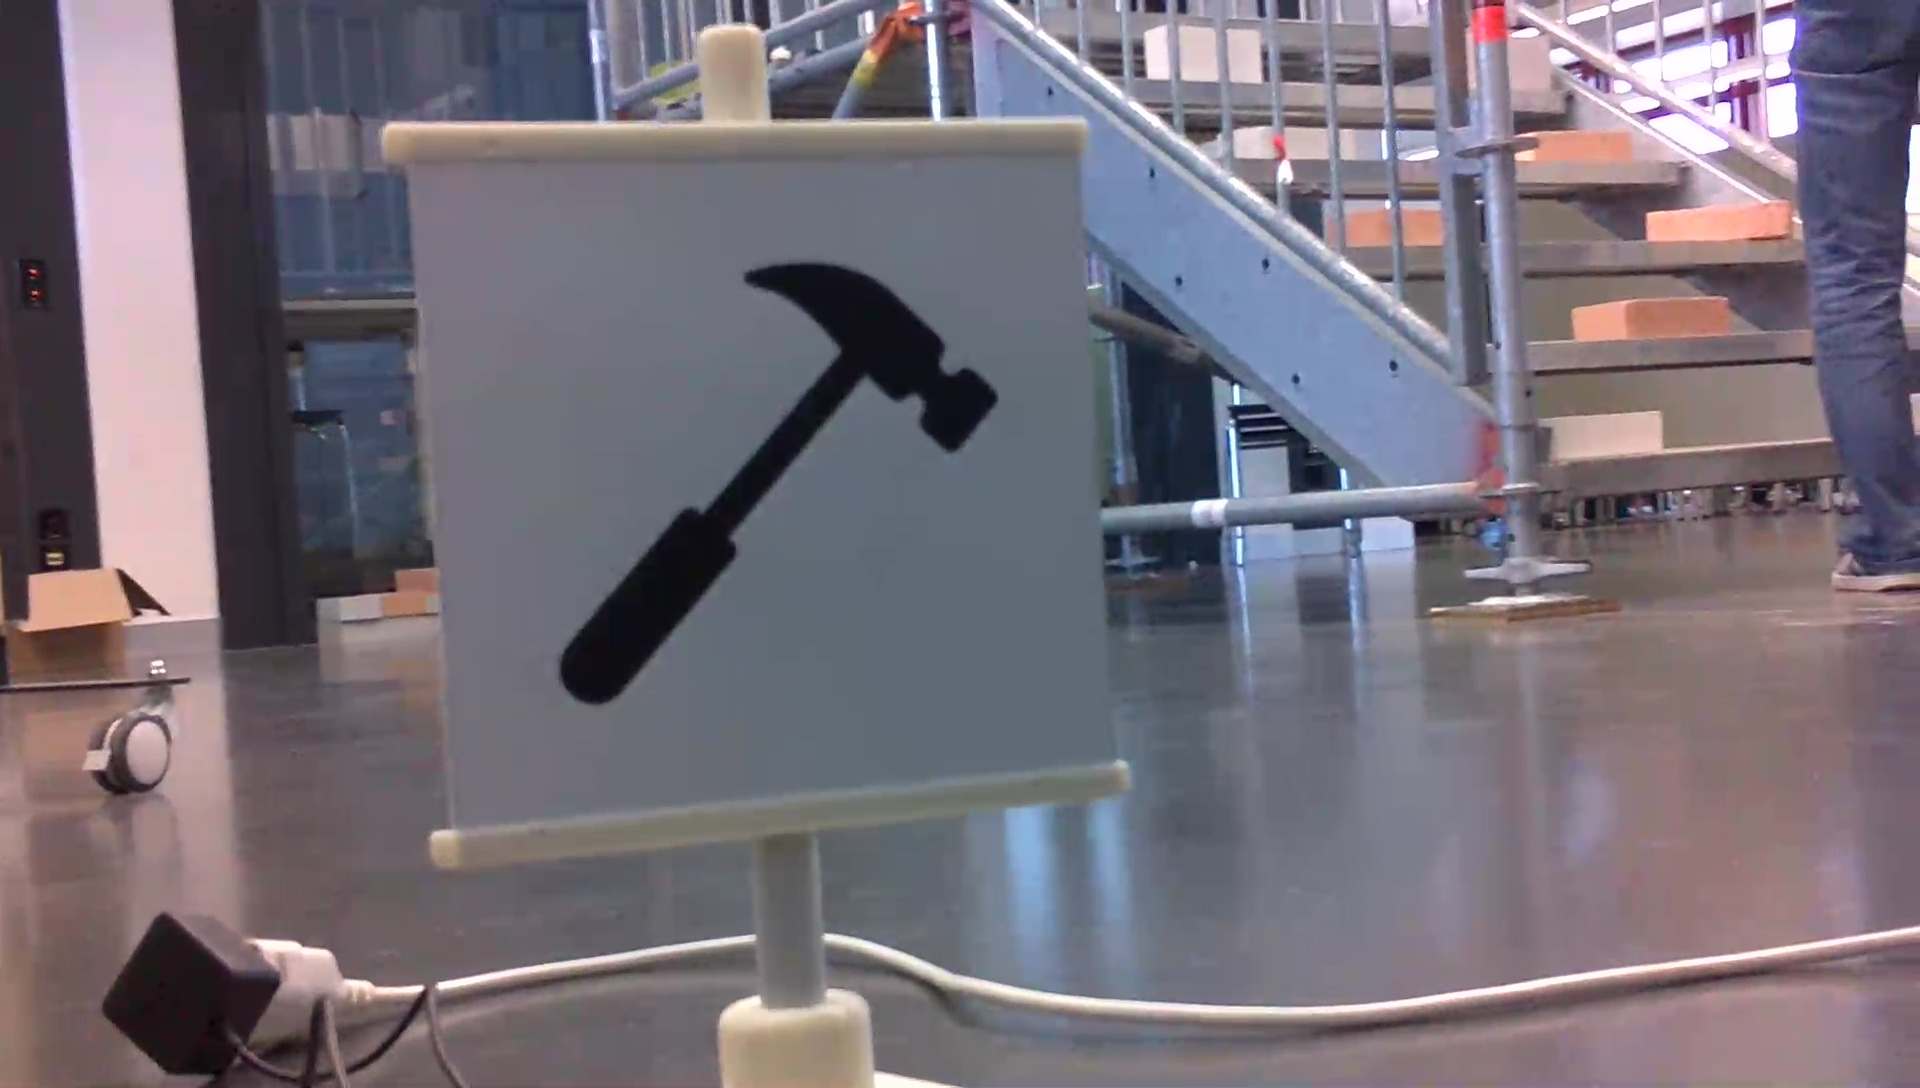brick: (1576, 298, 1727, 334), (1648, 204, 1791, 239), (1548, 410, 1660, 454), (1523, 129, 1633, 164), (1507, 34, 1545, 90)
hammer: (553, 255, 1004, 712)
